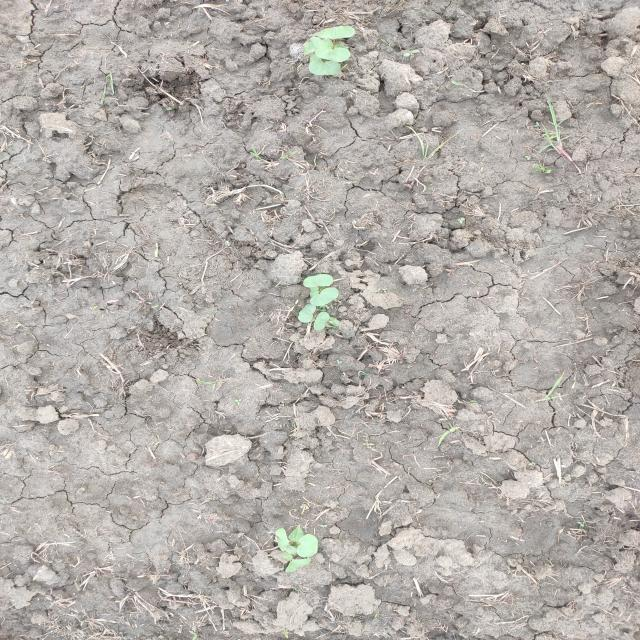seedling_s4: (315, 46, 351, 62), (310, 287, 339, 306), (317, 26, 355, 39), (297, 534, 318, 557), (308, 60, 340, 75), (303, 274, 333, 287), (303, 37, 322, 57), (297, 303, 316, 323), (286, 558, 311, 573), (275, 528, 289, 552), (288, 525, 304, 542), (314, 312, 329, 330), (316, 39, 333, 49), (285, 545, 296, 554)
